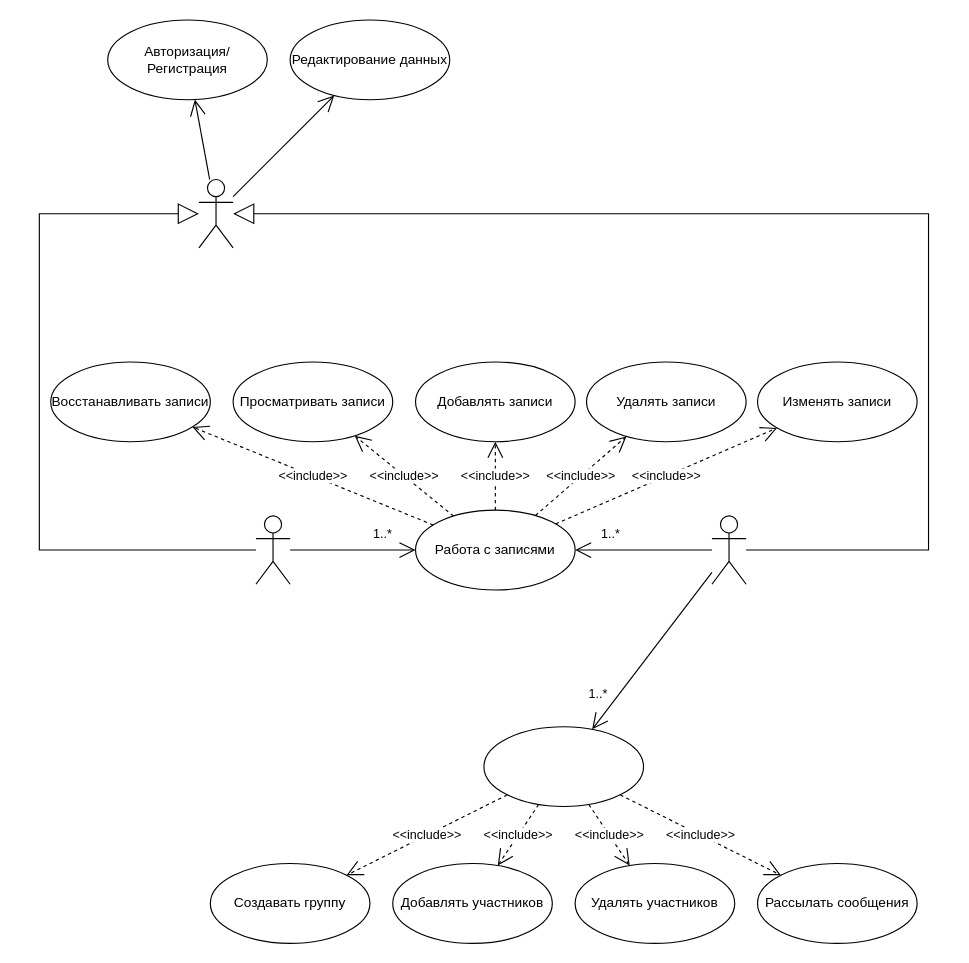
The diagram is 969 pixels wide and 963 high, and some of its shapes have lost their labels. The shapes that lost their labels are listed below. From the top down, each one's centre as x and y in pixels, then its label:
At point (215, 213): "Пользователь".
At point (272, 549): "Студент".
At point (728, 549): "Староста".
At point (563, 766): "Работа с группой".
